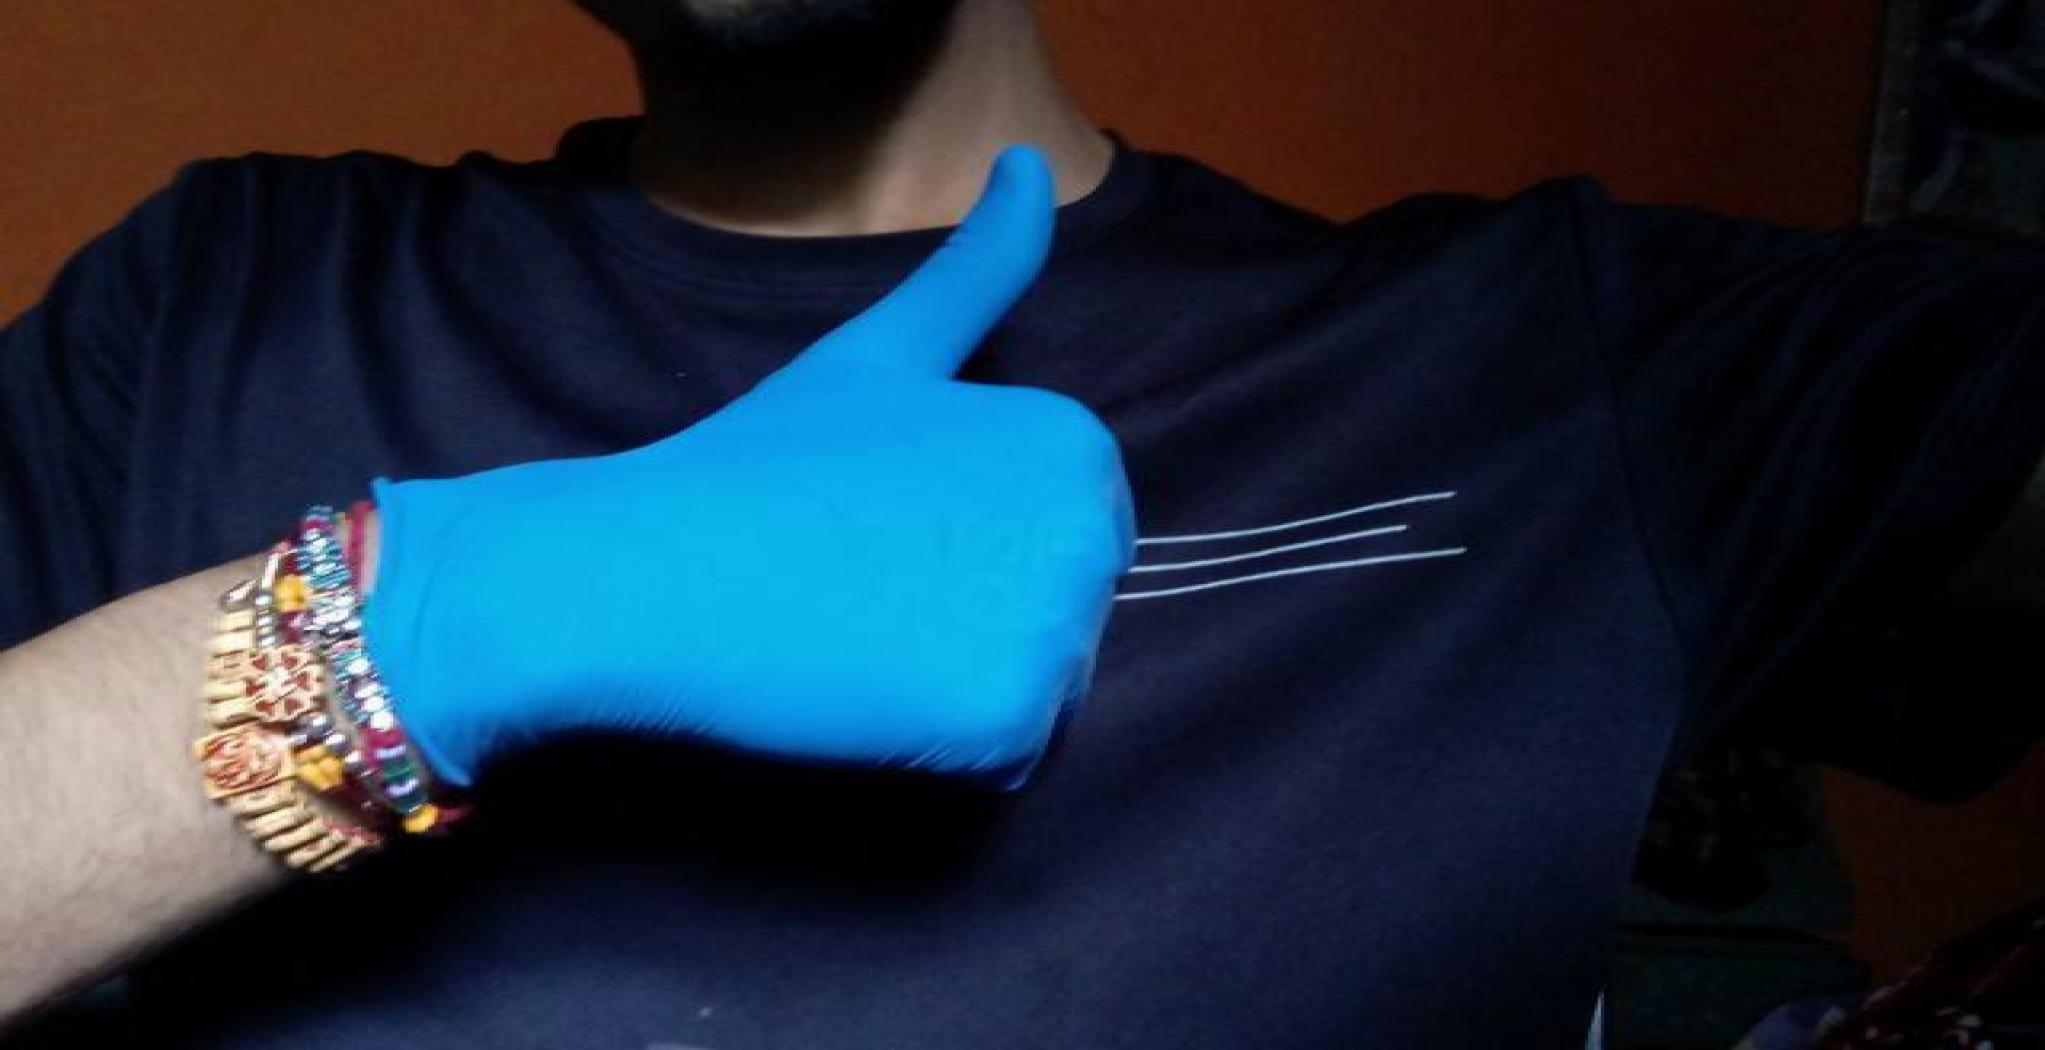gloved: (455, 151, 1091, 809)
